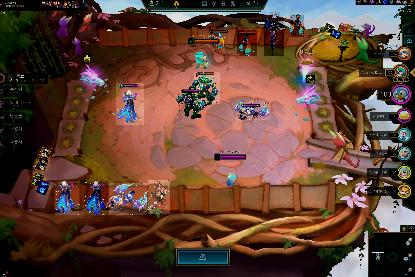1_malphite: (177, 90, 205, 120), (194, 72, 220, 104)
1_skarner: (109, 183, 147, 215), (236, 100, 270, 120)
1_soraka: (270, 12, 280, 30)
1_taliyah: (237, 30, 257, 56), (290, 15, 304, 37)
1_twitch: (148, 180, 170, 214)
1_vladimir: (84, 181, 108, 217), (55, 181, 79, 215)
1_zeri: (210, 30, 228, 56)
2_vladimir: (116, 83, 144, 125)
2_zyra: (264, 18, 284, 56)
